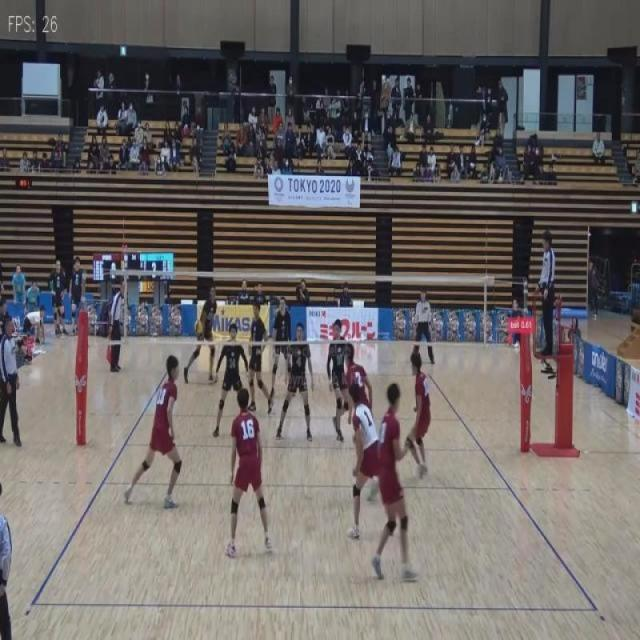volleyball: (193, 318, 204, 336)
